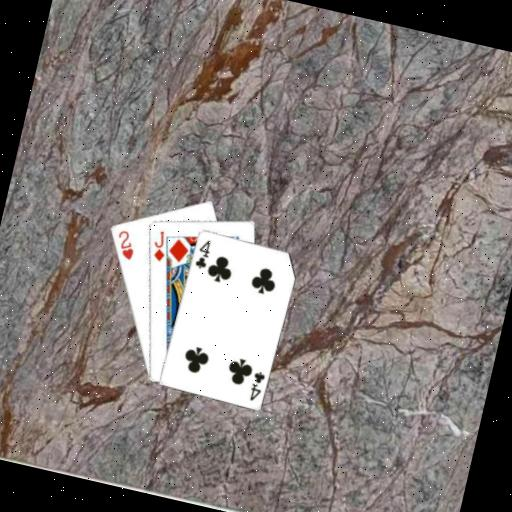2H: (110, 226, 140, 263)
4C: (245, 367, 268, 404), (192, 235, 214, 271)
JD: (148, 226, 172, 264)
